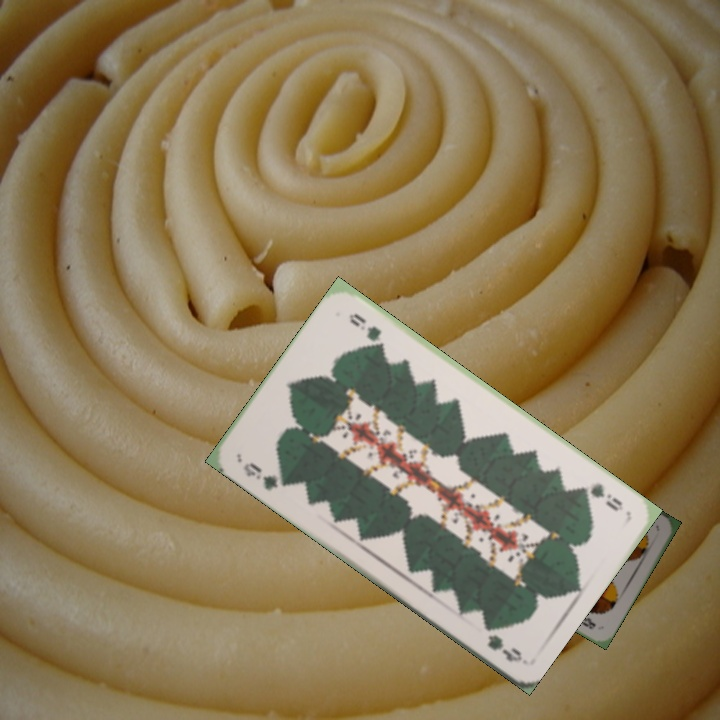G9: (239, 458, 292, 493), (574, 479, 625, 514)
